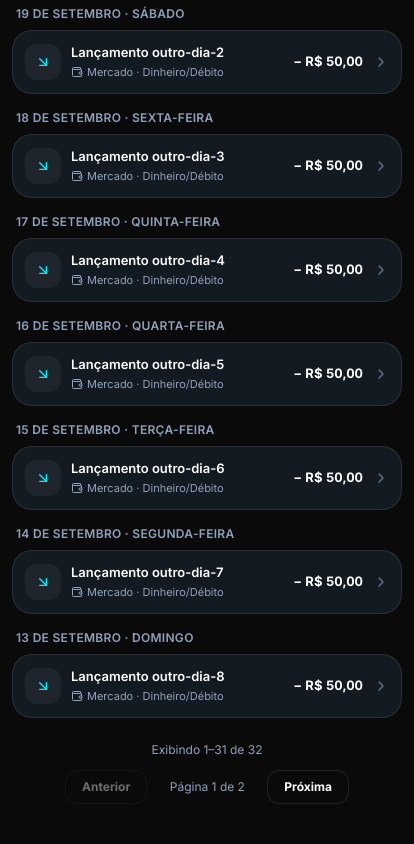
Test case: linha do tempo de transações › pagina por dias no mobile sem dividir um balão
(page scrolled)
Expected: the text "Página 1 de 2" is shown, [170,779,245,794]
Click the button "Próxima": [308, 787] box [267,770,349,804]
(page scrolled)
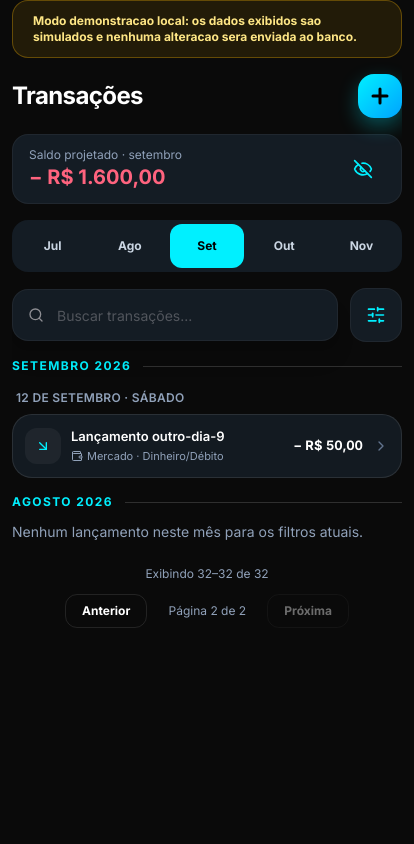
Expected: the element named "Transações de 12 de setembro" is shown, [12,414,402,478]
